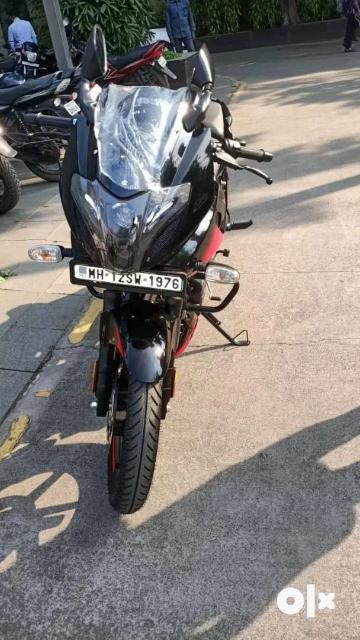Indian_Number_Plate: (69, 263, 184, 295)
